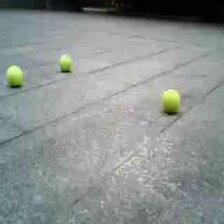tennis: (162, 90, 180, 112), (6, 65, 23, 85), (59, 53, 71, 71)
